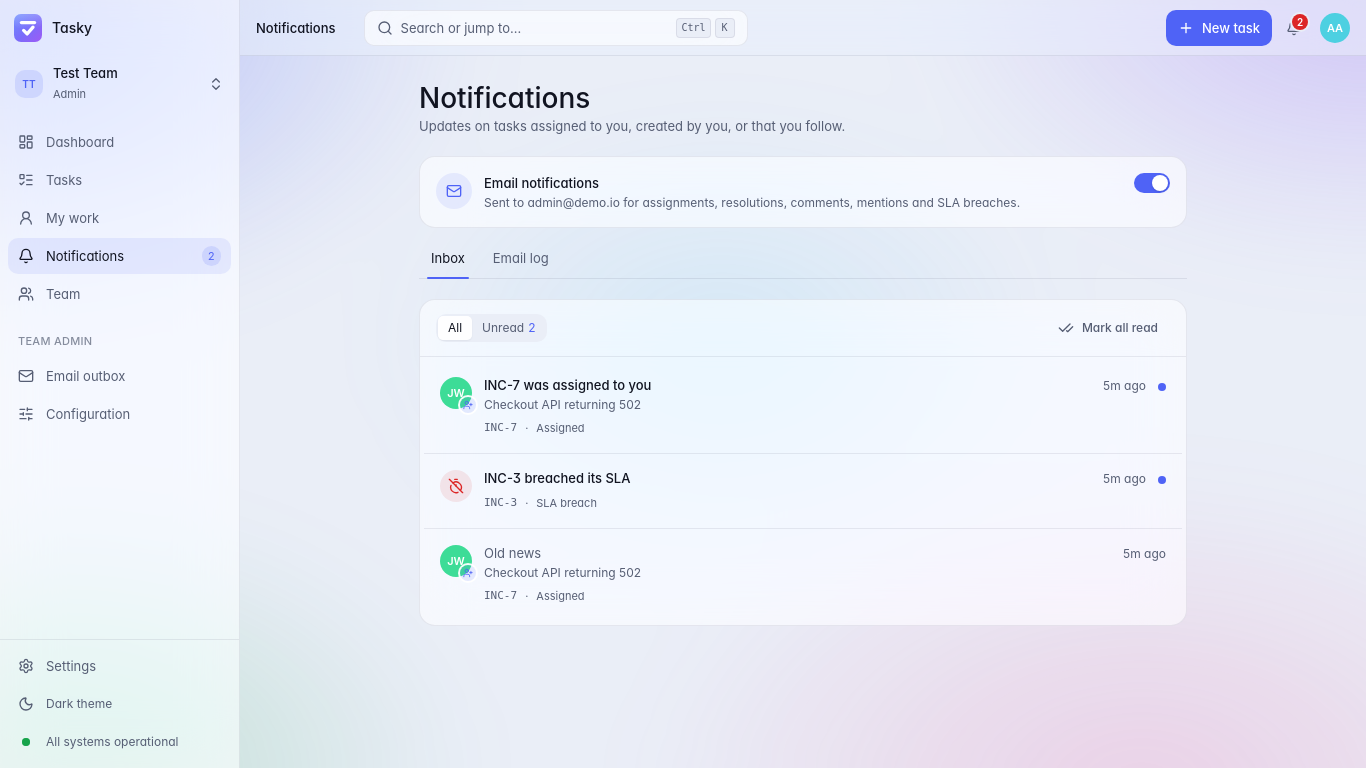
Test: notifications page › toggles the email preference
Click the switch named "Email notifications": (1152, 183) [1134, 173, 1170, 193]
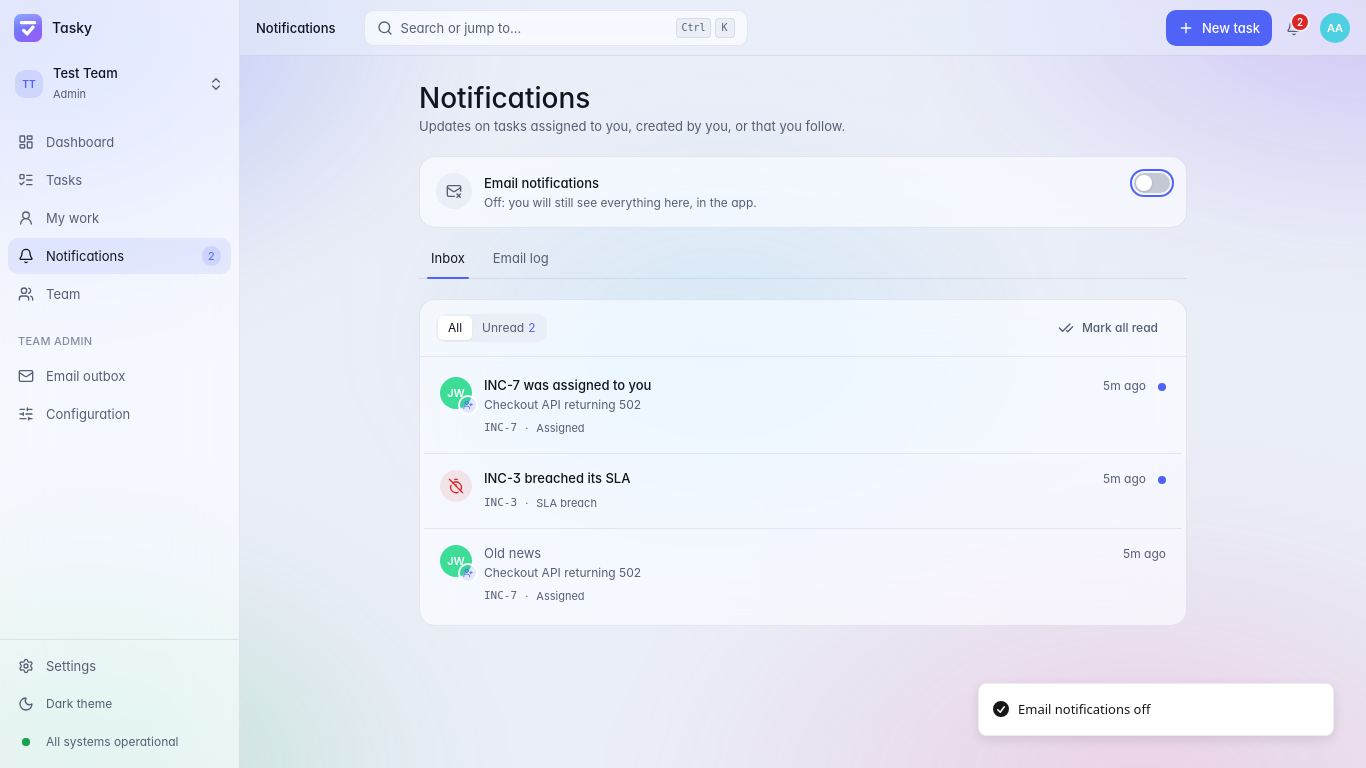
Now the text "Off: you will still see everything here, in the app." is shown, box [484, 195, 757, 210]
